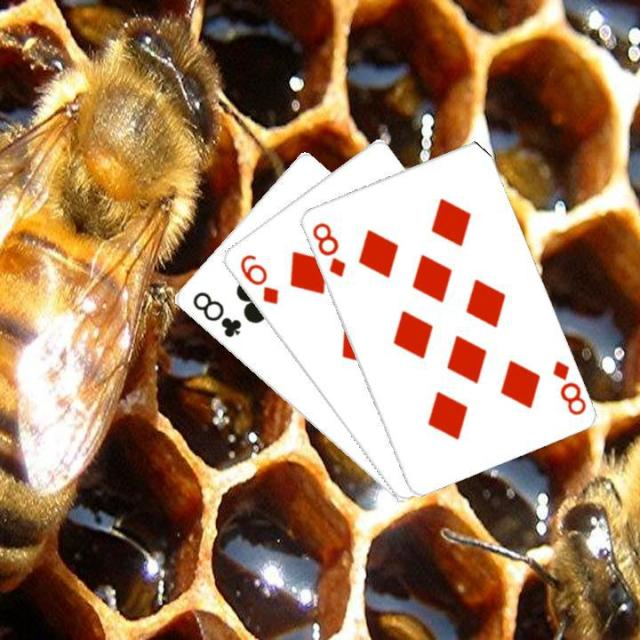6D: (236, 250, 280, 306)
8C: (188, 287, 244, 340)
8D: (548, 355, 588, 417), (308, 218, 348, 279)
